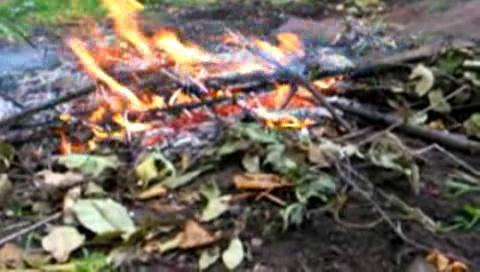fire: (67, 23, 306, 115)
